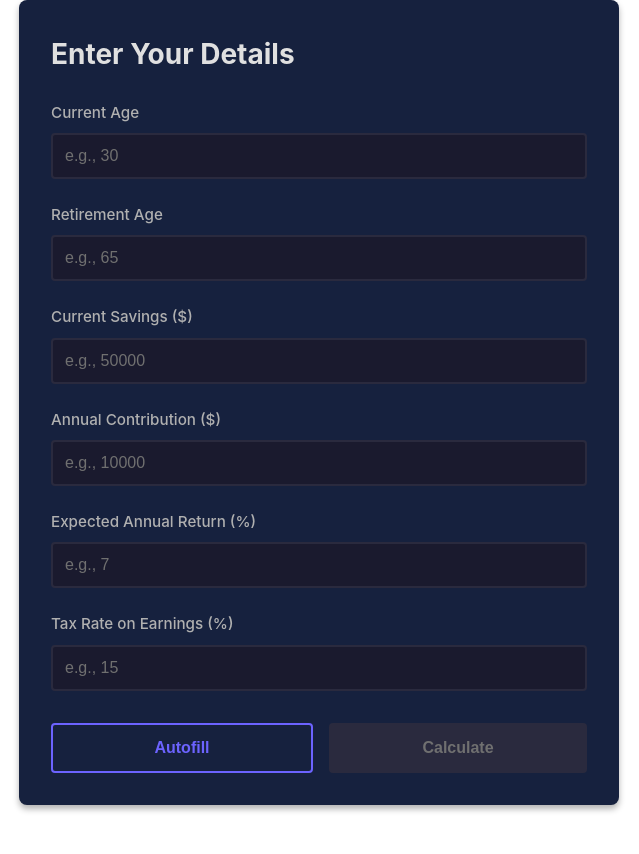
Test: InputForm › should show validation error for negative annual contribution
This screenshot has width=639, height=854.
In the number field labelled "Annual Contribution ($)": (319, 463) x1=51 y1=440 x2=587 y2=486, type "-500"
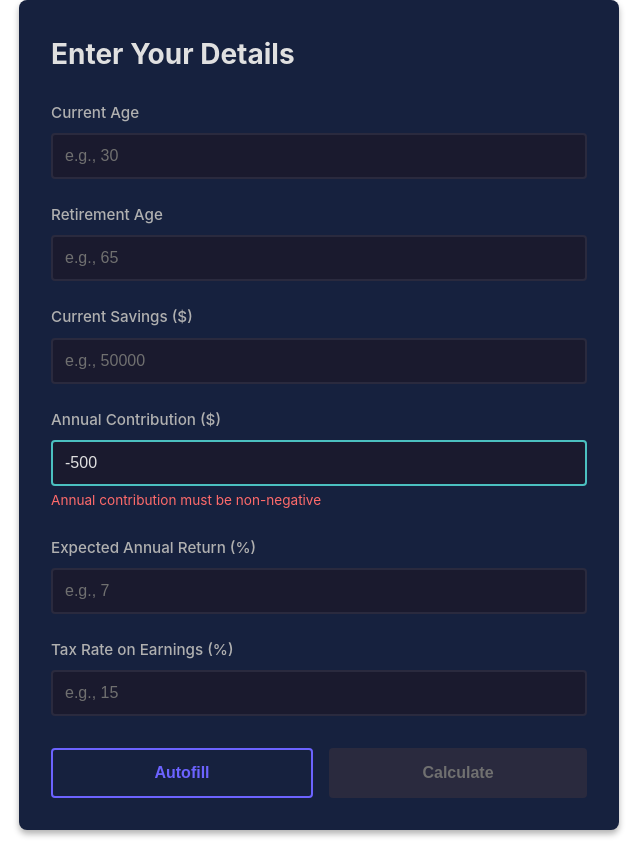
Expected: the text "Annual contribution must be non-negative" is shown, x1=51 y1=492 x2=321 y2=508
